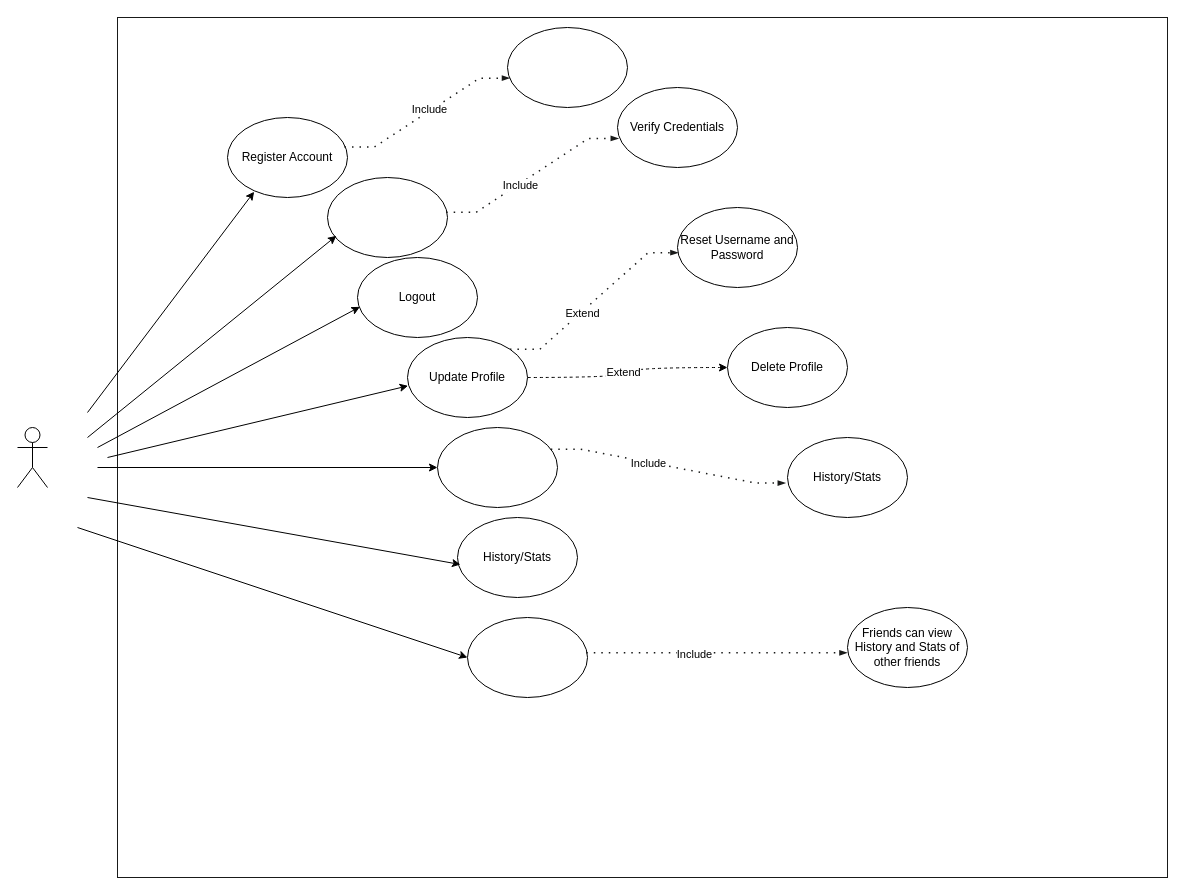
Image size: 1185x895. Some labels were removed from this diagram. Here are the shapes that lost their labels. From the top down, the box of each, then its label:
(506, 26, 628, 108): Optional? We dont need to implement this but Email Verification
(326, 176, 448, 258): Login
(16, 426, 48, 488): User
(436, 426, 558, 508): View Public Profile
(466, 616, 588, 698): (Optional) Enabling Friends/Friend requests
